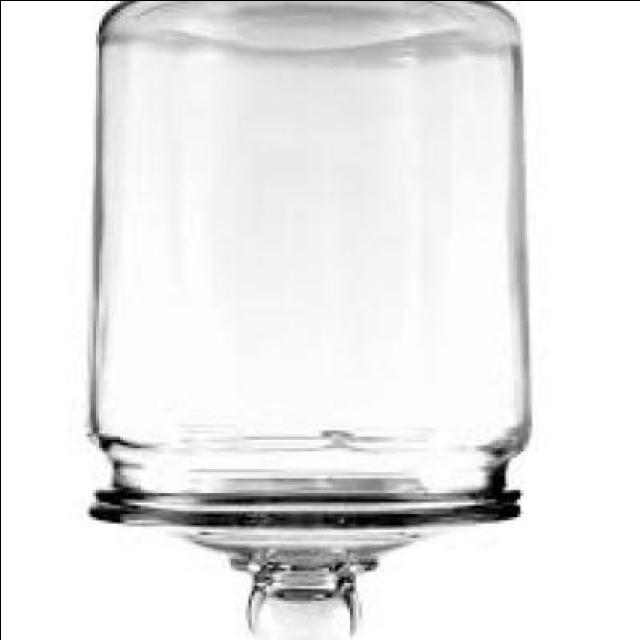kaca: (91, 0, 538, 640)
